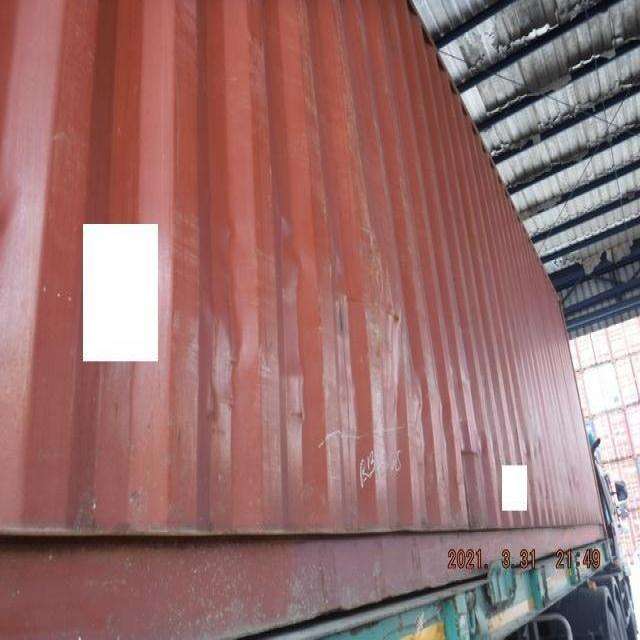dent: (182, 241, 309, 429), (322, 231, 436, 421)
